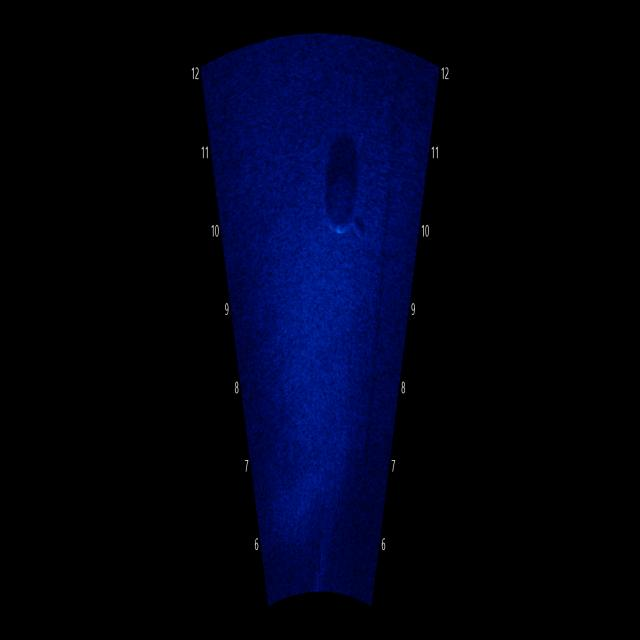circle: (313, 147, 369, 246)
